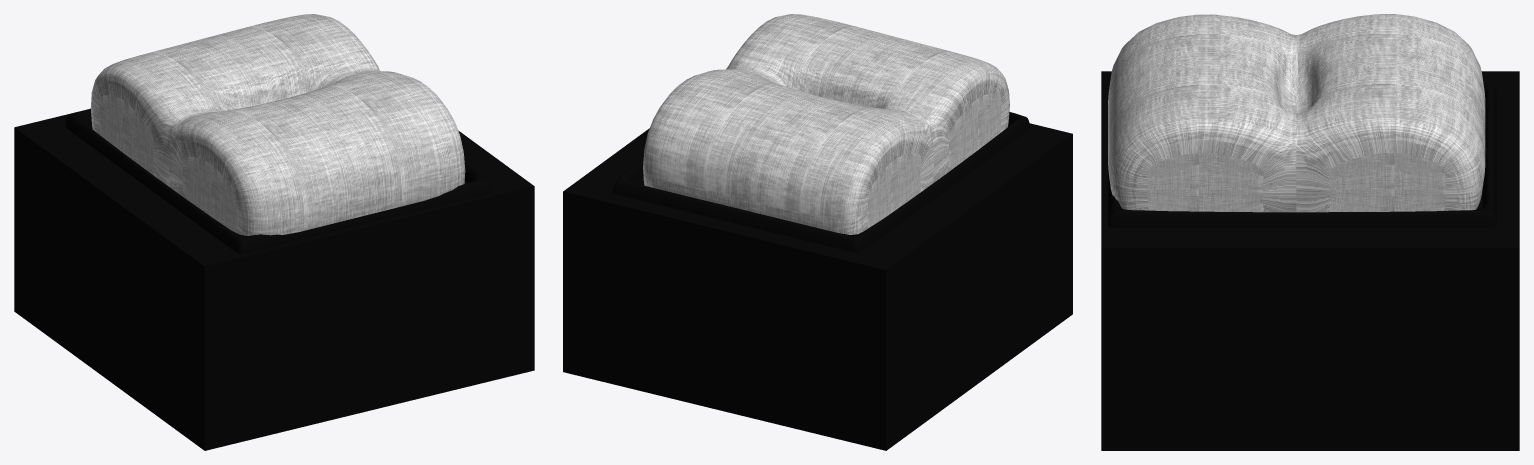
File: ringdisplayed.fbx
The picture shows the model from 3 angles, left to right: view 1: azimuth 30°, elevation 25°; view 2: azimuth 150°, elevation 25°; view 3: azimuth 270°, elevation 25°; orthographic projection. The views are drawn at different scales.
Visible parts, largest first — view 1: displayring:pCube3, displayring:displayring, displayring:pCube2; view 2: displayring:pCube3, displayring:displayring, displayring:pCube2; view 3: displayring:pCube3, displayring:displayring, displayring:pCube2.
Part boxes in pixels (<box>): displayring:pCube3: <box>14,108,534,450</box>; displayring:displayring: <box>90,14,465,235</box>; displayring:pCube2: <box>65,109,490,254</box>; displayring:pCube3: <box>563,123,1072,450</box>; displayring:displayring: <box>643,14,1009,234</box>; displayring:pCube2: <box>613,112,1030,252</box>; displayring:pCube3: <box>1101,71,1519,450</box>; displayring:displayring: <box>1108,14,1485,212</box>; displayring:pCube2: <box>1108,80,1496,227</box>.
Size of the model in its own units: 4.43 by 3.48 by 4.43.
